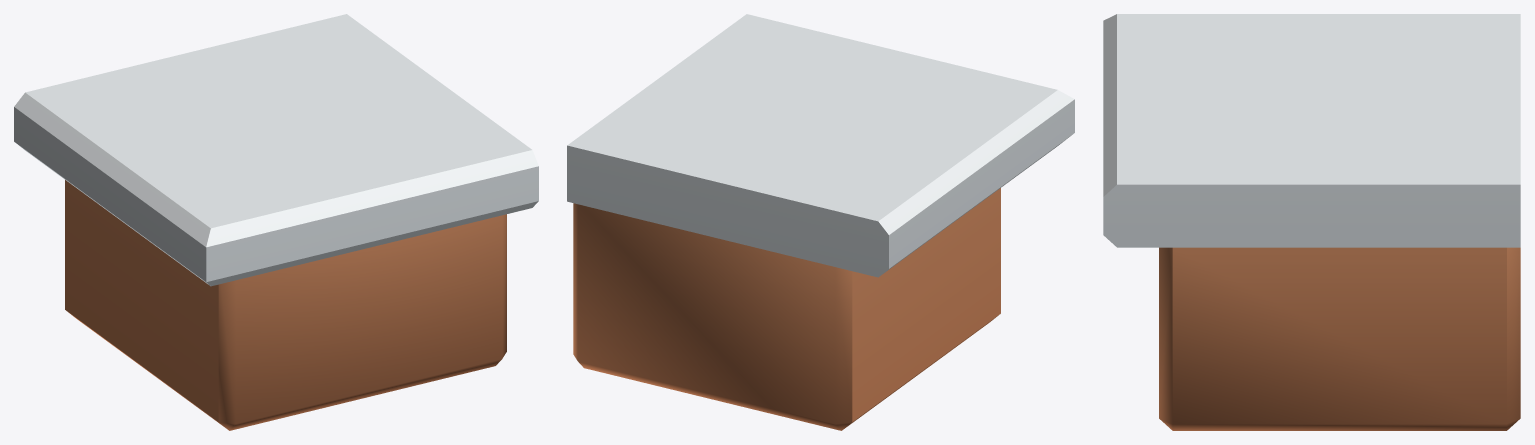
The model's file is Countertop Counter O.glb.
3 renders of one model, left to right at view 1: azimuth 30°, elevation 25°; view 2: azimuth 150°, elevation 25°; view 3: azimuth 270°, elevation 25°, orthographic. The views are drawn at different scales.
Visible parts, largest first — view 1: countertop_counter_outer; view 2: countertop_counter_outer; view 3: countertop_counter_outer.
Part boxes in pixels (x1,y1,x2,y2): countertop_counter_outer: [14, 14, 538, 430]; countertop_counter_outer: [567, 14, 1074, 430]; countertop_counter_outer: [1103, 14, 1520, 430].
Size of the model in its own units: 1.5 by 1 by 1.5.
1 material, 1 textured.
